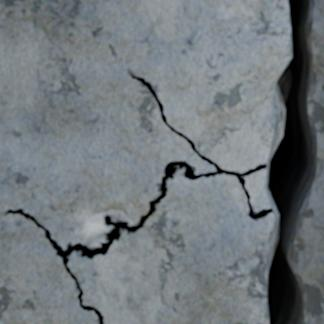brick: (0, 0, 291, 323), (68, 169, 273, 323)
crack: (2, 0, 322, 323)
